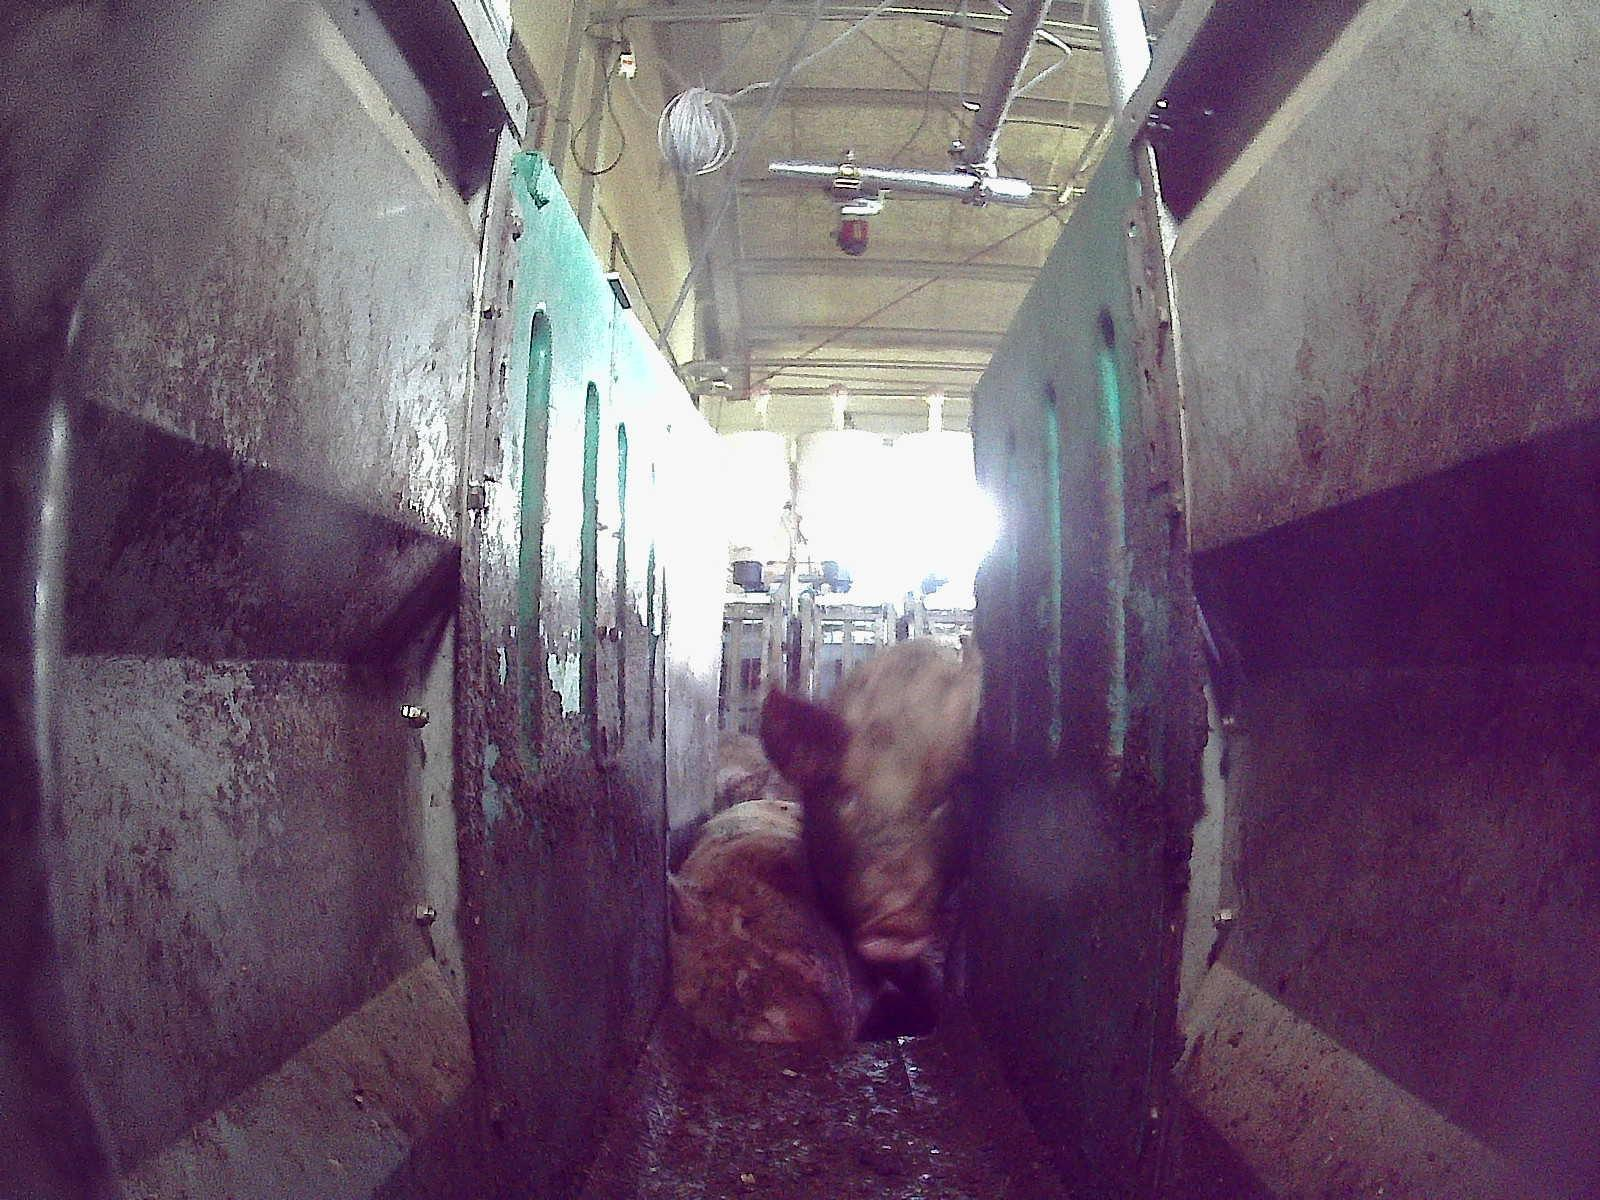Face: (817, 744, 965, 957)
